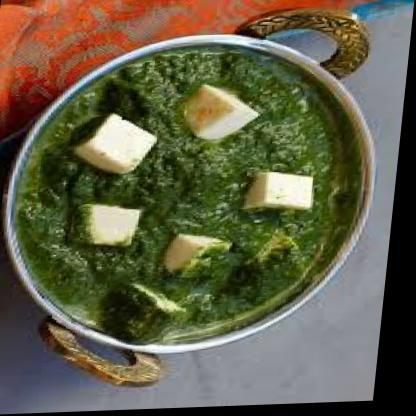palak_paneer: (8, 41, 371, 351)
